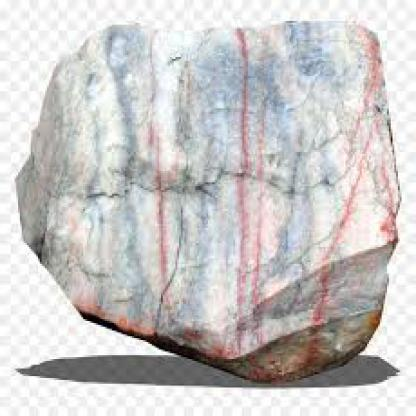Metamorphic_Marble: (3, 15, 402, 388)
